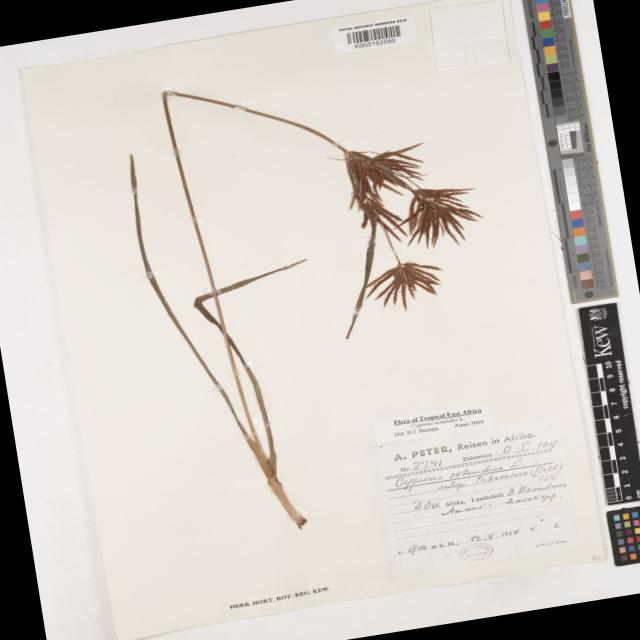cyperus: (326, 120, 493, 323)
